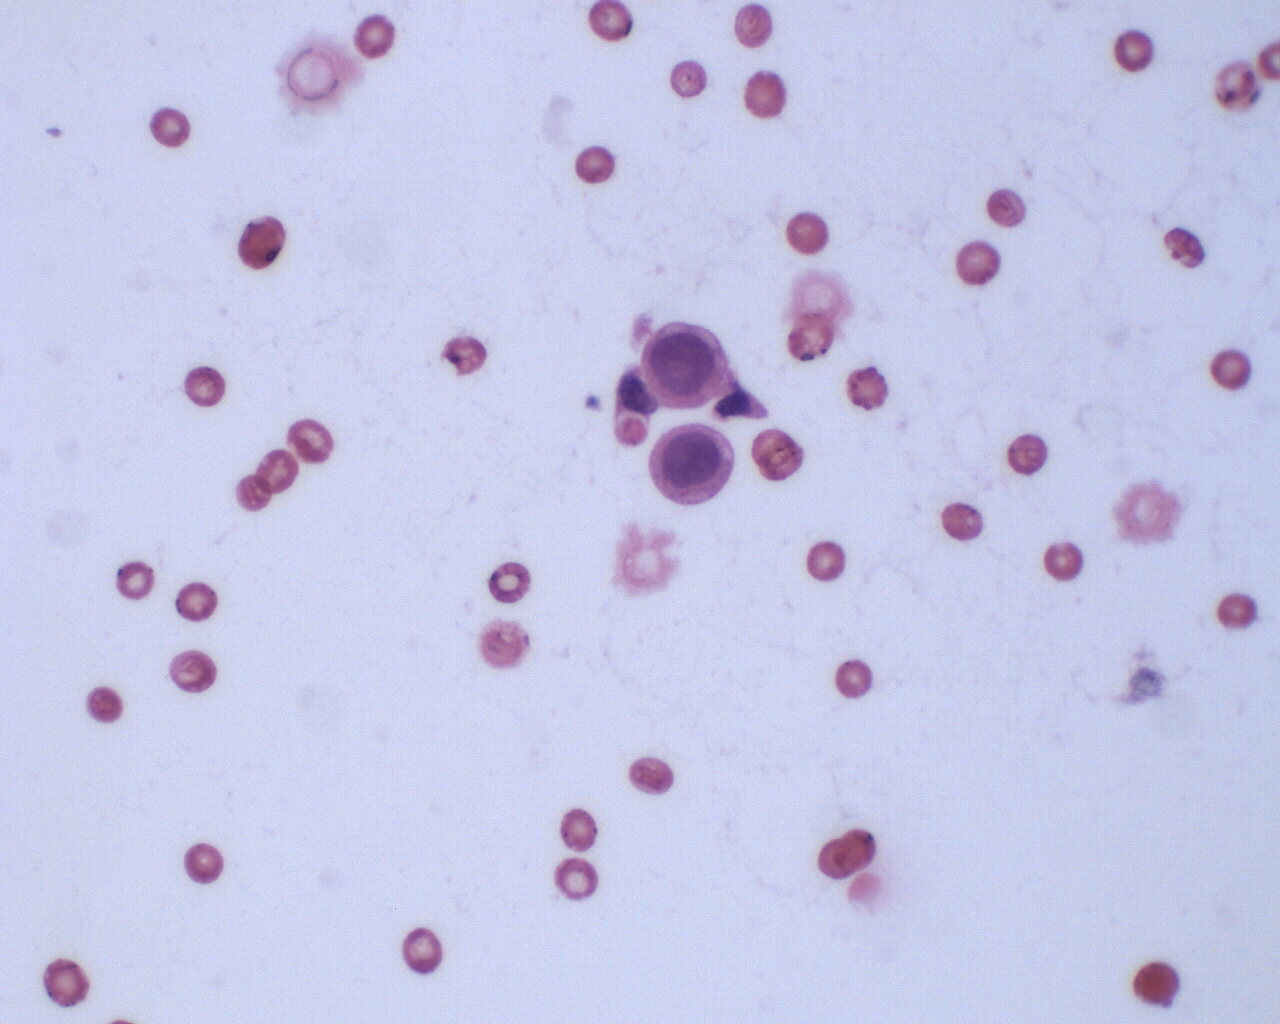ab: (635, 317, 727, 413), (643, 421, 739, 510)
